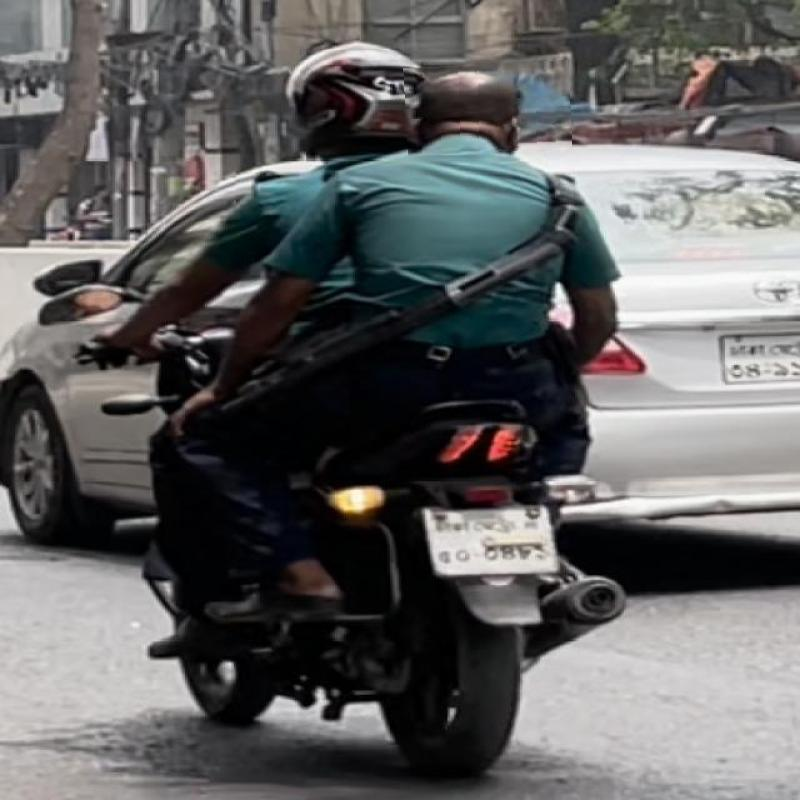nohelmet: (404, 62, 571, 154)
